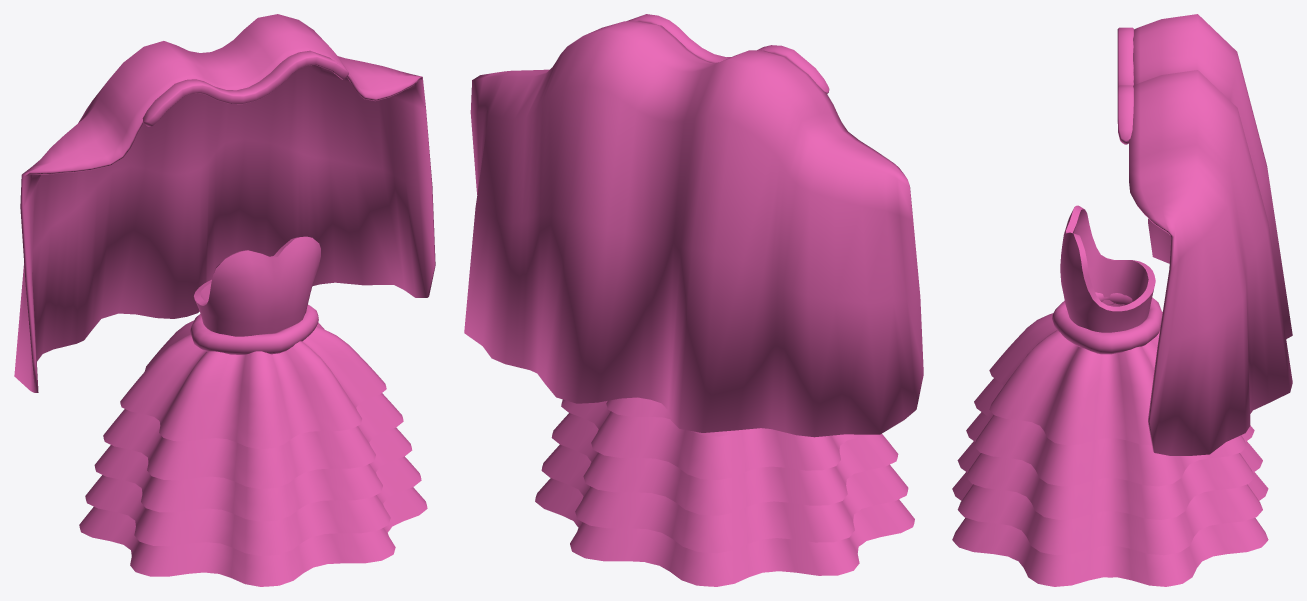
The model's file is MESH_WeddingDress.fbx.
3 views of the same model, side by side, from view 1: azimuth 30°, elevation 25°; view 2: azimuth 150°, elevation 25°; view 3: azimuth 270°, elevation 25° (orthographic). The views are drawn at different scales.
Visible parts, largest first — view 1: veilmanuam.002, Plane.001, Plane.007, Plane.009, Plane.010, Plane.008, Corps.002, cerretete.001, BELT.001; view 2: veilmanuam.002, Plane.009, Plane.010, Plane.008, Plane.007, cerretete.001, Plane.001; view 3: veilmanuam.002, Plane.001, Plane.009, Plane.010, Plane.008, Plane.007, Corps.002, BELT.001, cerretete.001.
Boxes of the visible parts, <box> form: veilmanuam.002: <box>14,14,435,392</box>; Plane.001: <box>120,320,386,448</box>; Plane.007: <box>103,393,403,488</box>; Plane.009: <box>85,456,421,555</box>; Plane.010: <box>79,487,427,586</box>; Plane.008: <box>94,427,412,521</box>; Corps.002: <box>194,236,320,336</box>; cerretete.001: <box>142,50,348,126</box>; BELT.001: <box>190,304,318,354</box>; veilmanuam.002: <box>464,21,923,437</box>; Plane.009: <box>541,444,908,553</box>; Plane.010: <box>535,478,914,586</box>; Plane.008: <box>551,413,898,515</box>; Plane.007: <box>561,399,870,479</box>; cerretete.001: <box>626,14,829,93</box>; Plane.001: <box>606,397,740,436</box>; veilmanuam.002: <box>1129,14,1292,455</box>; Plane.001: <box>989,301,1162,445</box>; Plane.009: <box>957,441,1262,555</box>; Plane.010: <box>952,472,1268,586</box>; Plane.008: <box>966,412,1254,519</box>; Plane.007: <box>974,378,1246,486</box>; Corps.002: <box>1060,205,1155,332</box>; BELT.001: <box>1052,292,1162,354</box>; cerretete.001: <box>1117,27,1133,144</box>.
Bounding box in the file's own units: 132 × 142 × 93.44.
